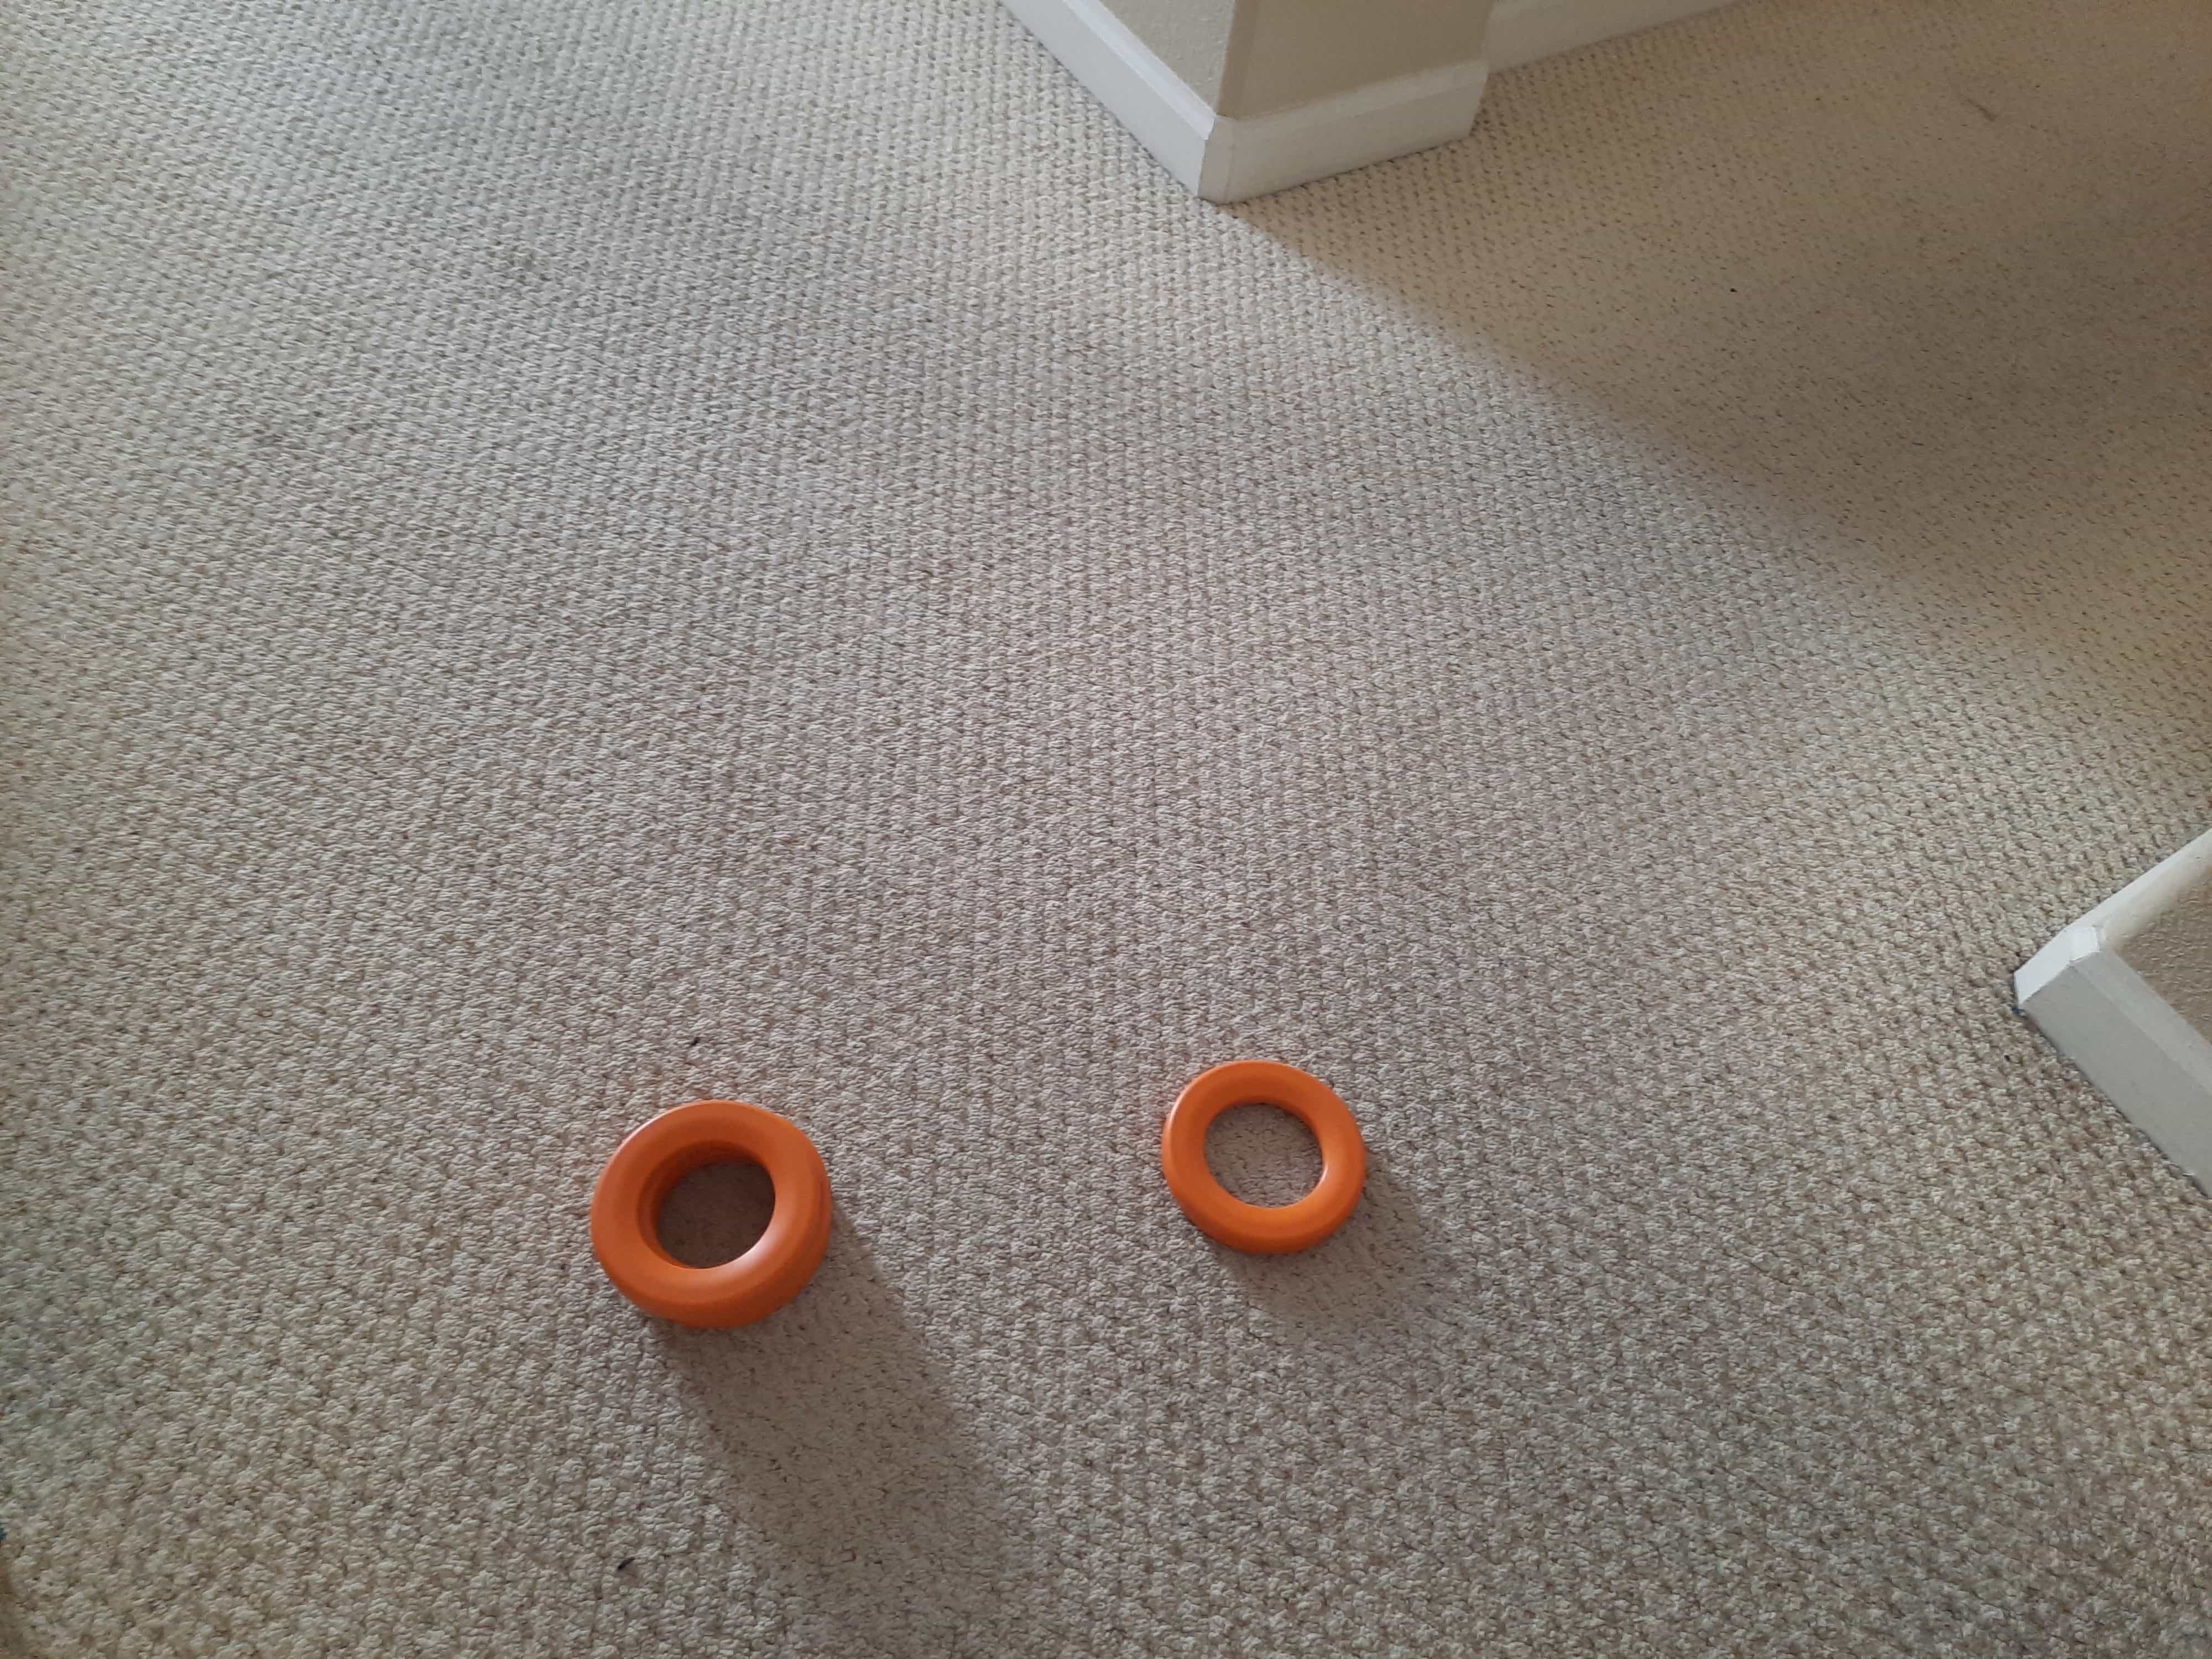FourStack: (590, 1103, 827, 1324)
OneStack: (1163, 1066, 1362, 1239)
